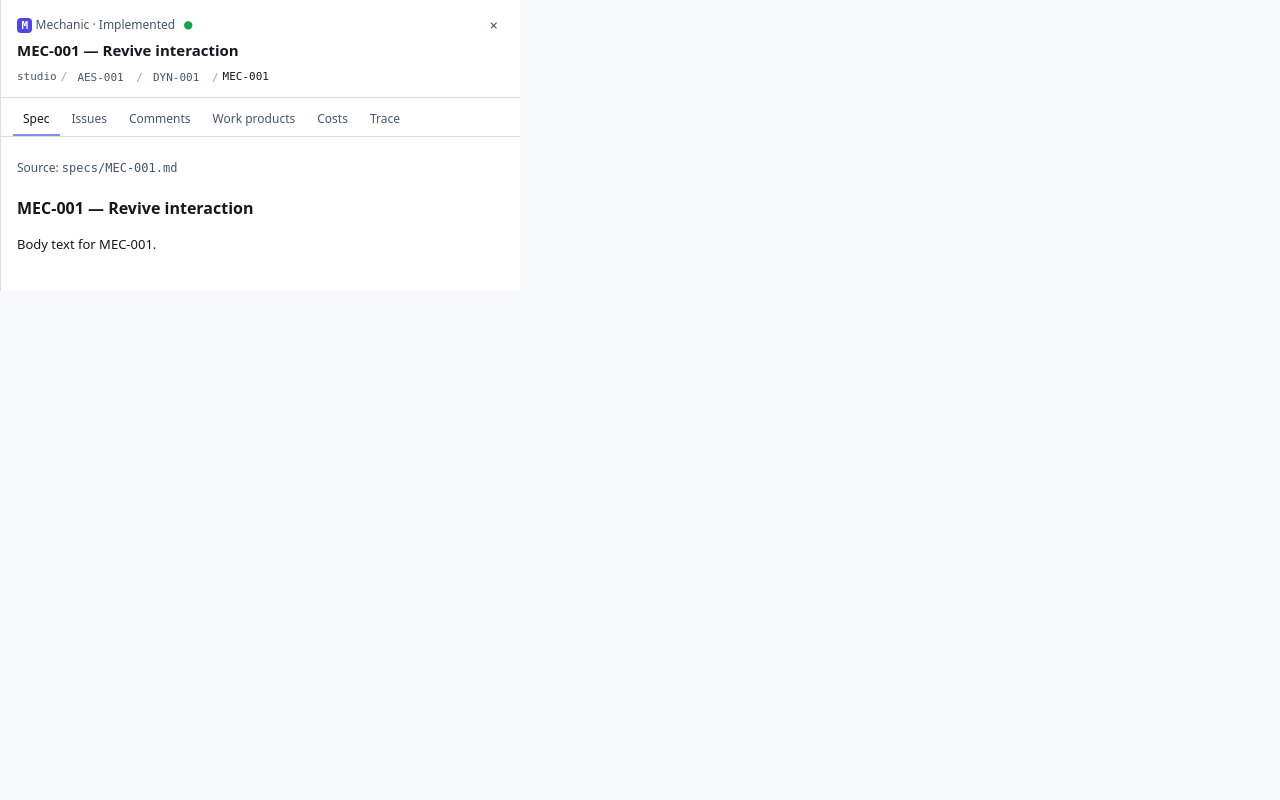
NodeDrawer › Comments tab renders a comment when present
Click the tab "Comments": {"x": 160, "y": 120} [119,104,201,136]
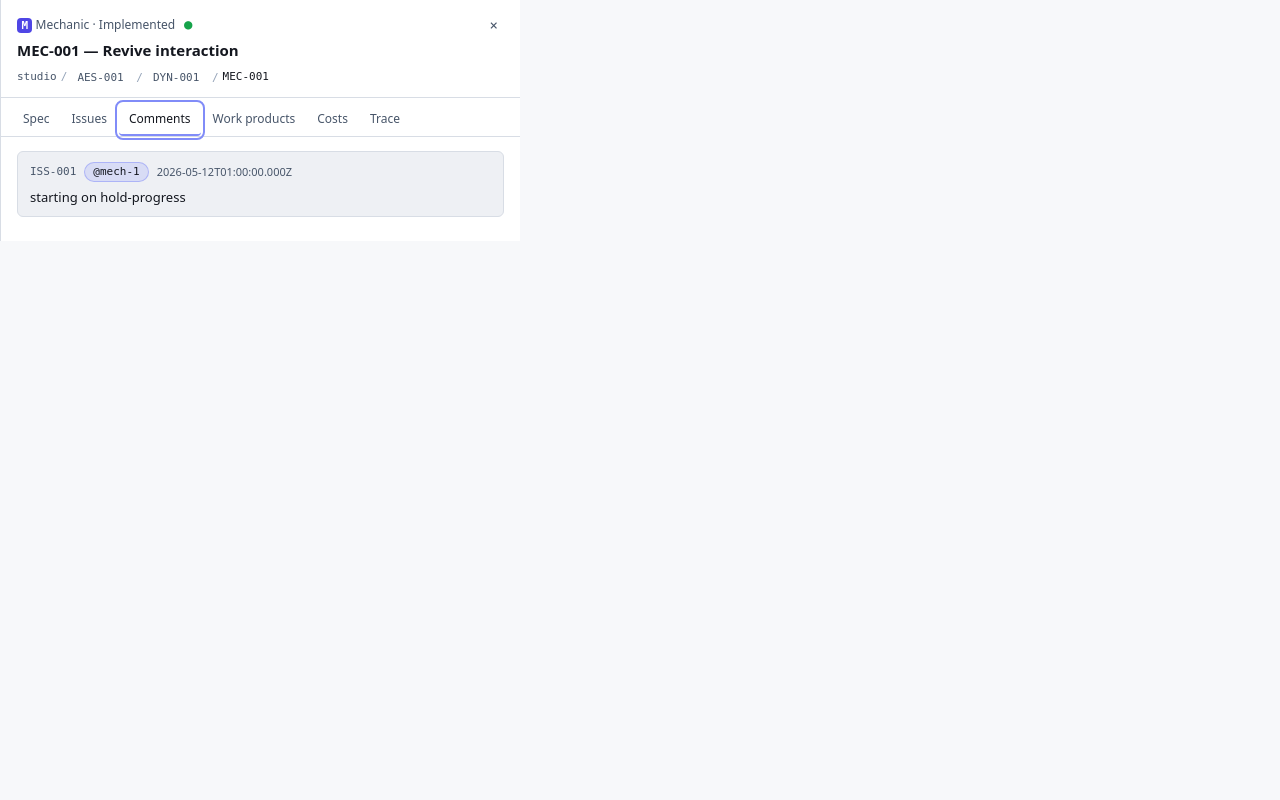
Now the text "starting on hold-progress" is shown, box [30,188,186,206]
